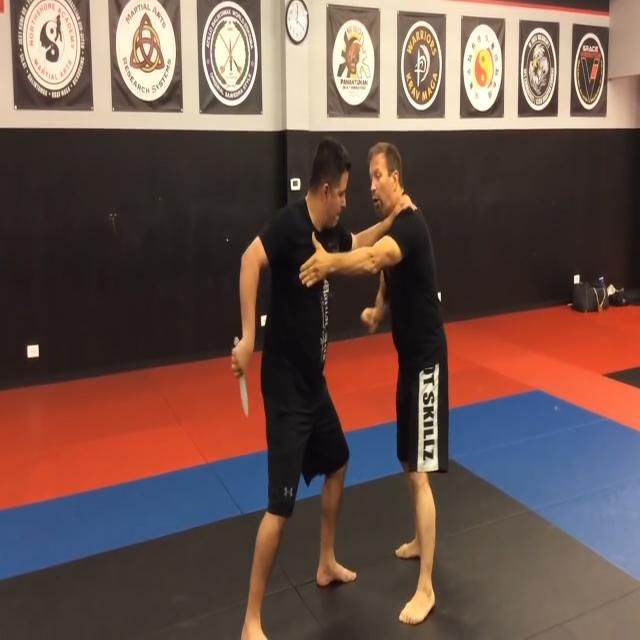knife: (240, 362, 254, 424)
